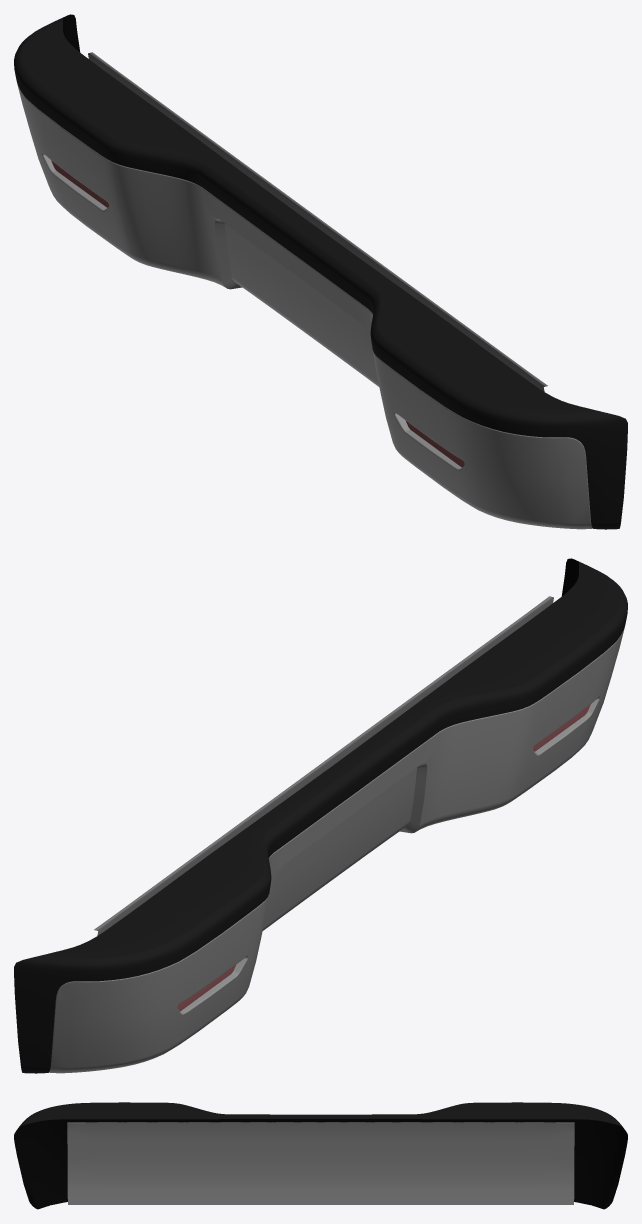
3 views of the same model, one above another, from view 1: azimuth 30°, elevation 25°; view 2: azimuth 150°, elevation 25°; view 3: azimuth 270°, elevation 25° (orthographic). The views are drawn at different scales.
Visible parts, largest first — view 1: U803_1A_561G_C_3_DaS_U803_1A_561G_C, U803_1A_561G_C_U803_1A_561G_C_2_D, U803_1A_561G_C_U803_1A_561G_C_1_DaS; view 2: U803_1A_561G_C_3_DaS_U803_1A_561G_C, U803_1A_561G_C_U803_1A_561G_C_2_D, U803_1A_561G_C_U803_1A_561G_C_1_DaS; view 3: U803_1A_561G_C_U803_1A_561G_C_1_DaS, U803_1A_561G_C_U803_1A_561G_C_8_D, U803_1A_561G_C_U803_1A_561G_C_2_D.
Part boxes in pixels (<box>): U803_1A_561G_C_3_DaS_U803_1A_561G_C: <box>16,81,592,529</box>; U803_1A_561G_C_U803_1A_561G_C_2_D: <box>14,17,627,529</box>; U803_1A_561G_C_U803_1A_561G_C_1_DaS: <box>88,52,547,391</box>; U803_1A_561G_C_3_DaS_U803_1A_561G_C: <box>49,625,625,1073</box>; U803_1A_561G_C_U803_1A_561G_C_2_D: <box>14,561,627,1073</box>; U803_1A_561G_C_U803_1A_561G_C_1_DaS: <box>94,596,553,935</box>; U803_1A_561G_C_U803_1A_561G_C_1_DaS: <box>67,1122,574,1204</box>; U803_1A_561G_C_U803_1A_561G_C_8_D: <box>14,1119,627,1209</box>; U803_1A_561G_C_U803_1A_561G_C_2_D: <box>16,1102,625,1130</box>.
Size of the model in its own units: 21.35 by 22.29 by 164.
